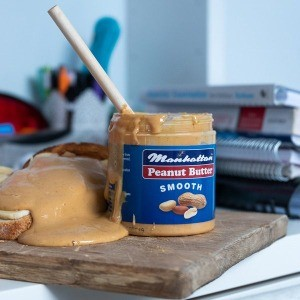peanut butter_brain food: (109, 111, 221, 149), (21, 169, 87, 223)
